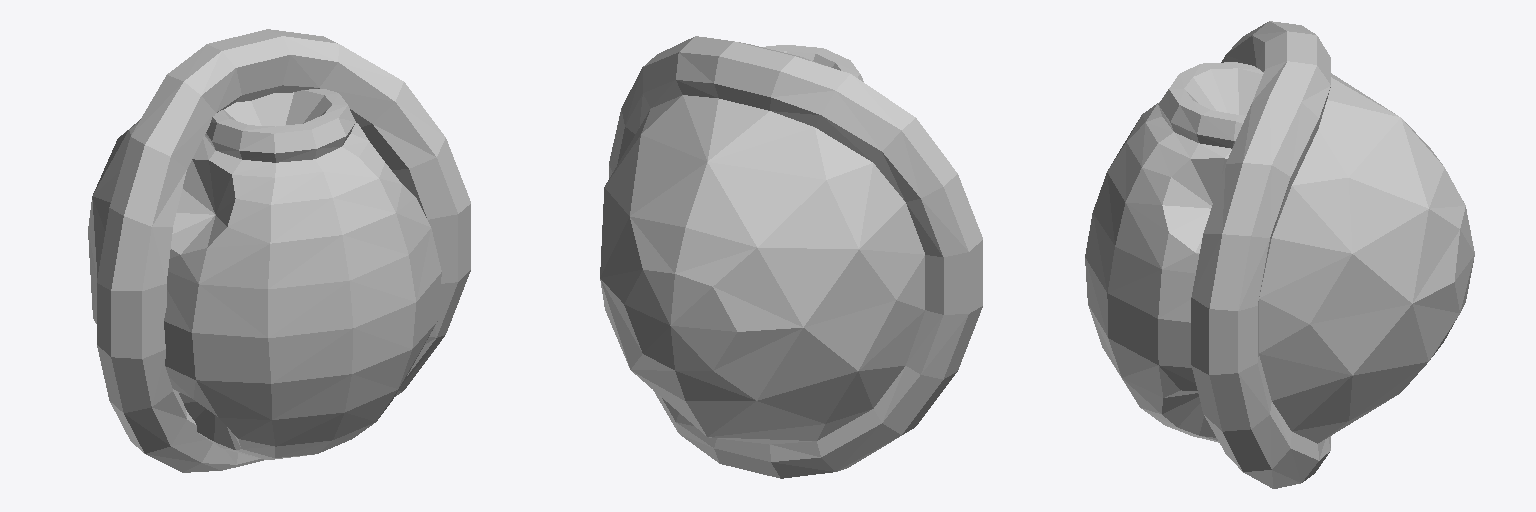
The model's file is shell.obj.
3 views of the same model, side by side, from view 1: azimuth 30°, elevation 25°; view 2: azimuth 150°, elevation 25°; view 3: azimuth 270°, elevation 25° (orthographic).
Visible parts, largest first — view 1: ItemKoura__m_ItemKoura; view 2: ItemKoura__m_ItemKoura; view 3: ItemKoura__m_ItemKoura.
Boxes of the visible parts, box(x1,y1,x2,y2) form: ItemKoura__m_ItemKoura: box(88, 29, 470, 472); ItemKoura__m_ItemKoura: box(600, 36, 982, 478); ItemKoura__m_ItemKoura: box(1085, 21, 1474, 488).
Bounding box in the file's own units: 7.42 × 8.26 × 6.96.